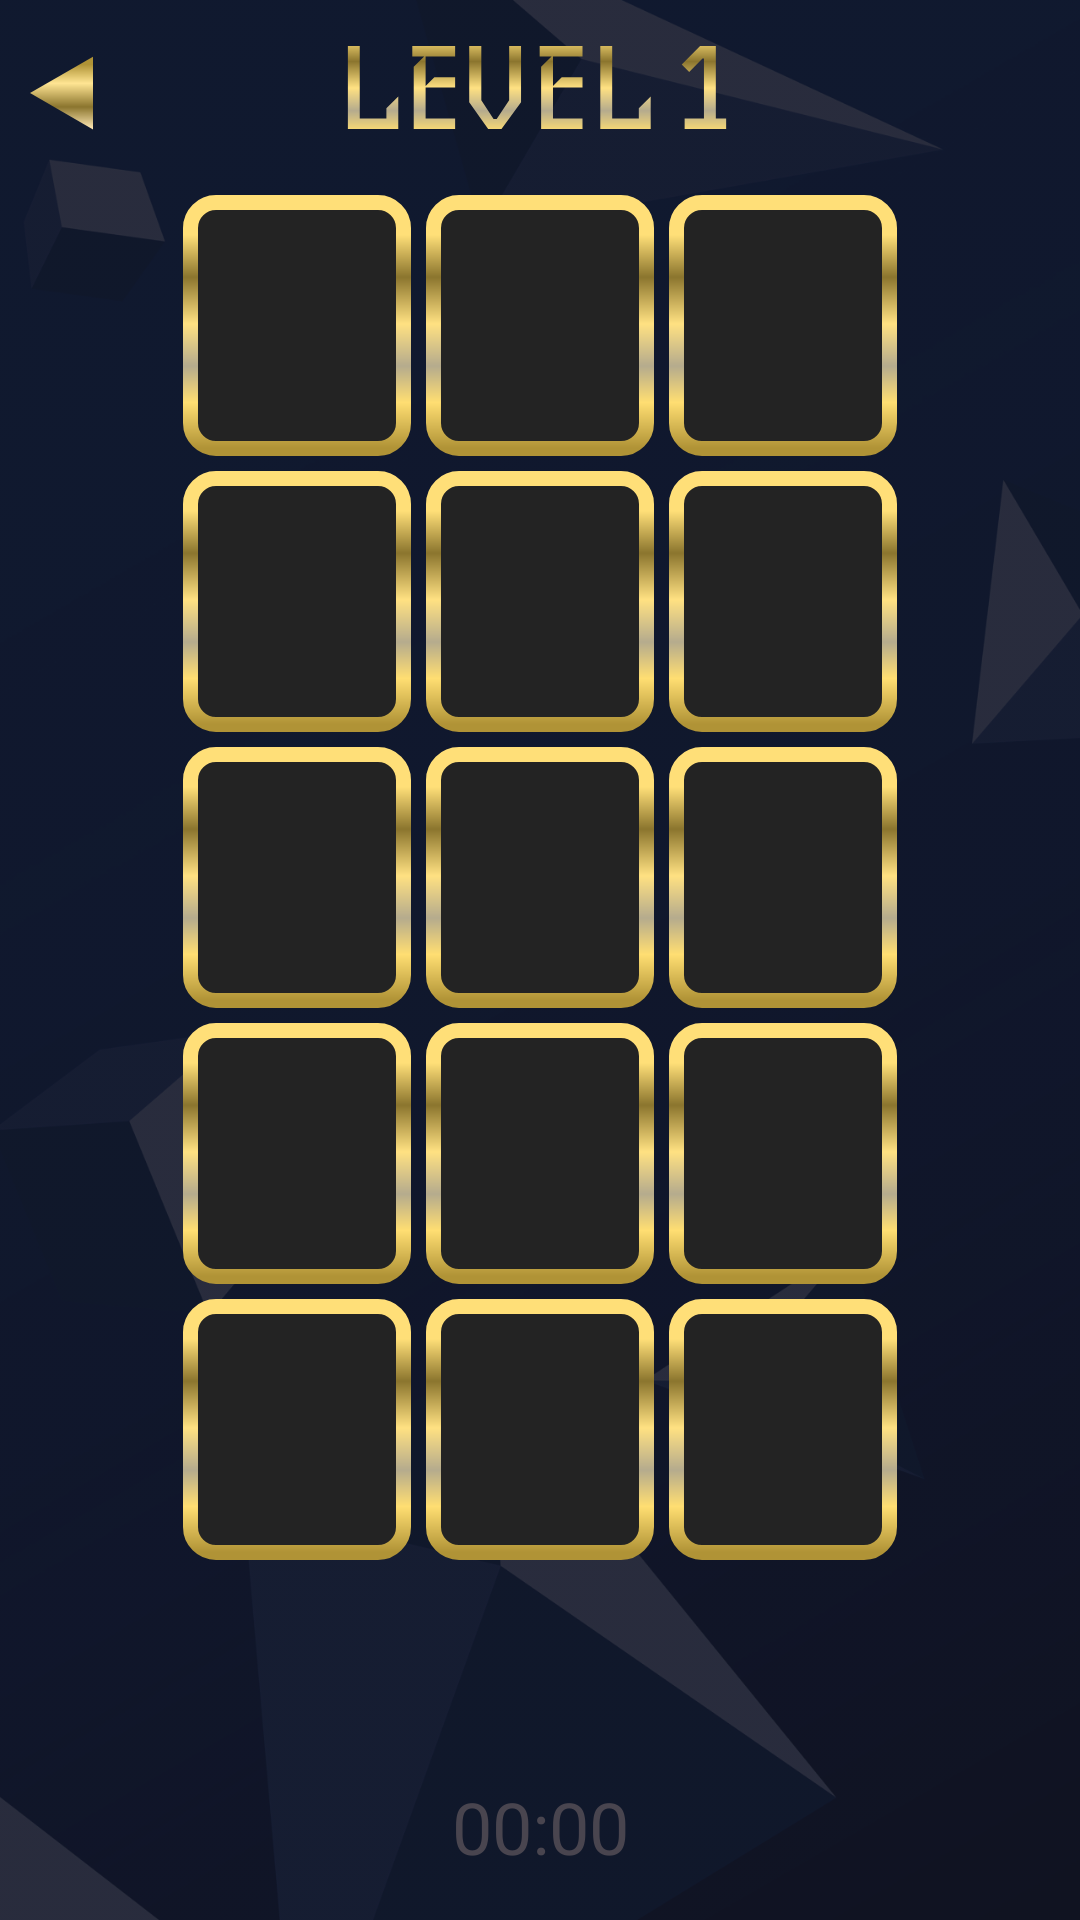

Named icons in this screenshot (1080px×1920px) and their bounding boxes, (x1, y1, x2, y2):
back: (30, 57, 93, 130)
